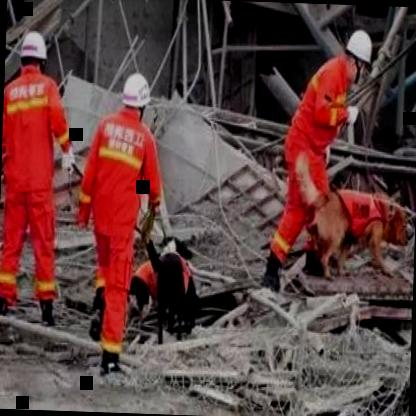helmet: (342, 26, 374, 83), (119, 70, 152, 122), (18, 30, 49, 78)
